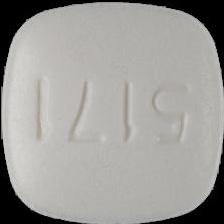68788-7393: (0, 0, 224, 224)
